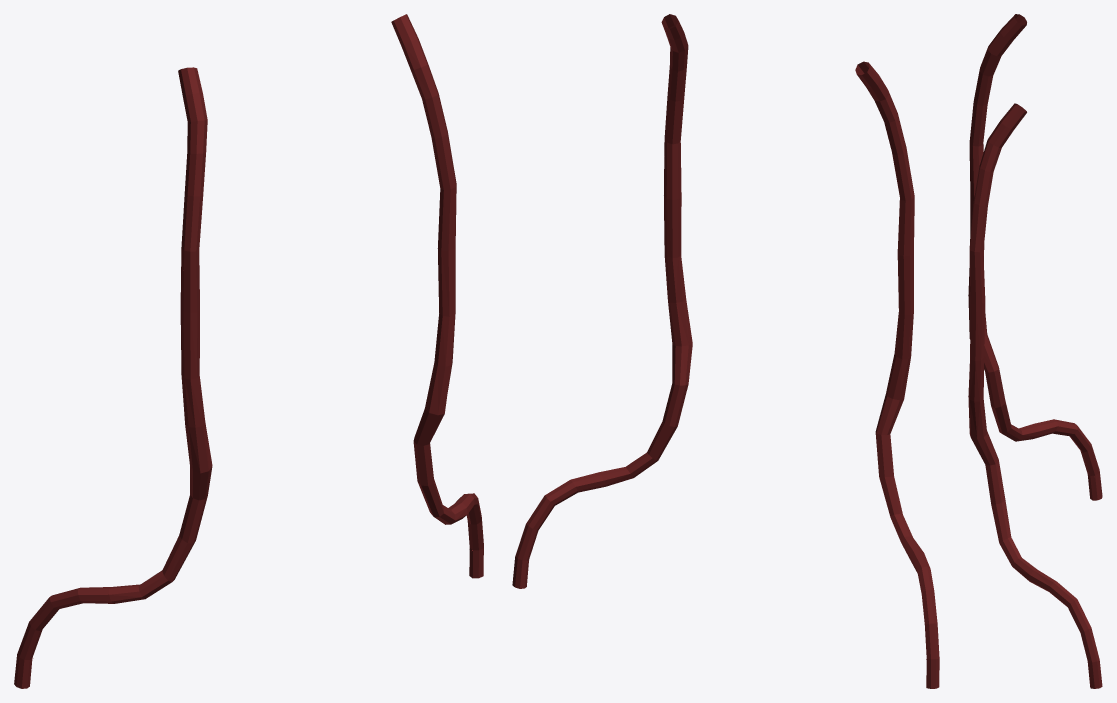
The model's file is Artéria Femoral.FBX.
3 views of the same model, side by side, from view 1: azimuth 30°, elevation 25°; view 2: azimuth 150°, elevation 25°; view 3: azimuth 270°, elevation 25° (orthographic). The views are drawn at different scales.
Visible parts, largest first — view 1: CS_Arterie; view 2: CS_Arterie; view 3: CS_Arterie.
Part boxes in pixels (box(x1,y1,x2,y2)): CS_Arterie: box(14, 14, 483, 688); CS_Arterie: box(512, 14, 939, 688); CS_Arterie: box(968, 14, 1102, 688).
Size of the model in its own units: 889 by 1136 by 259.
